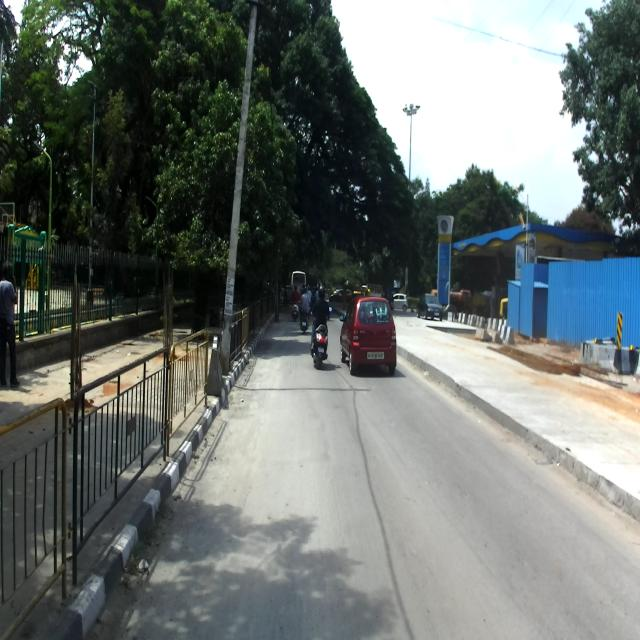car ahead at: (340, 291, 398, 377)
motorcycle ahead at: (307, 318, 332, 369)
